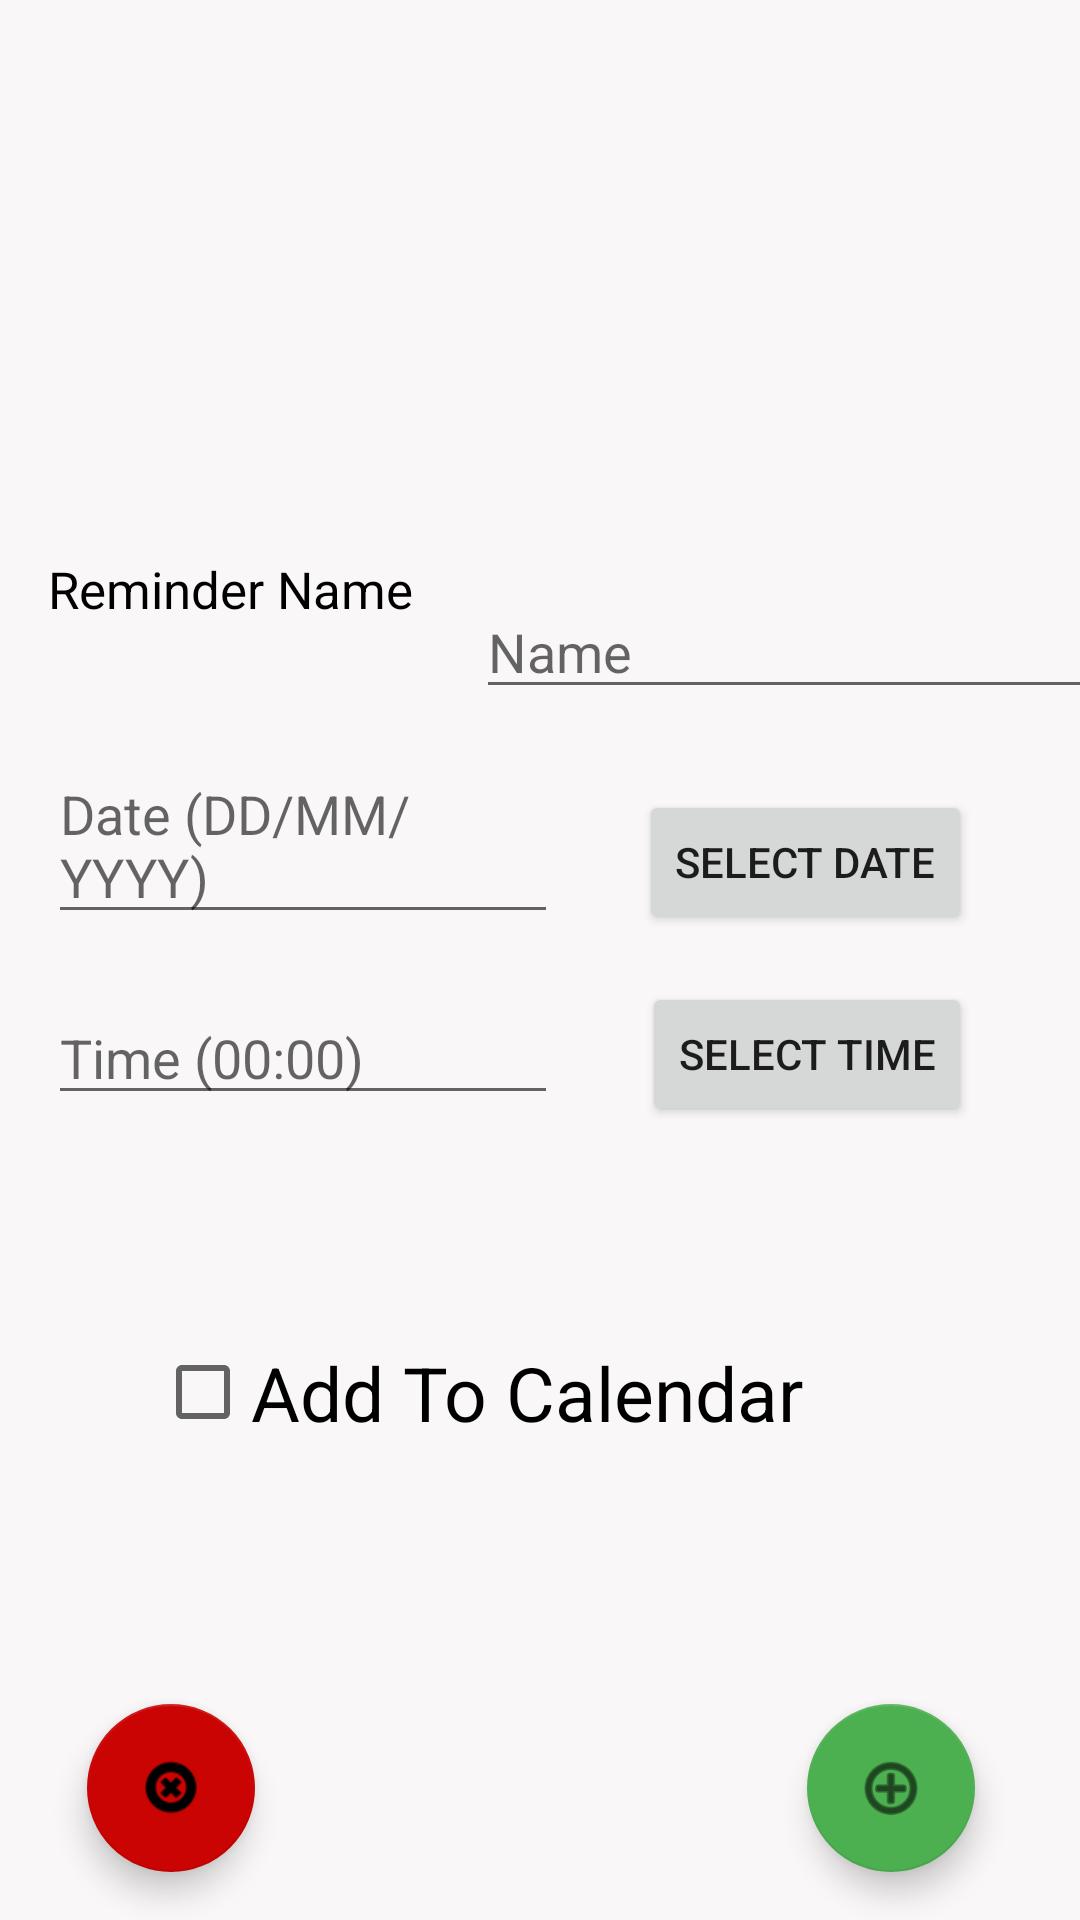

Named icons in this screenshot (1080x1920) and their bounding boxes, (x1, y1, x2, y2):
add: (807, 1704, 975, 1872)
notification clear all: (87, 1704, 255, 1872)
